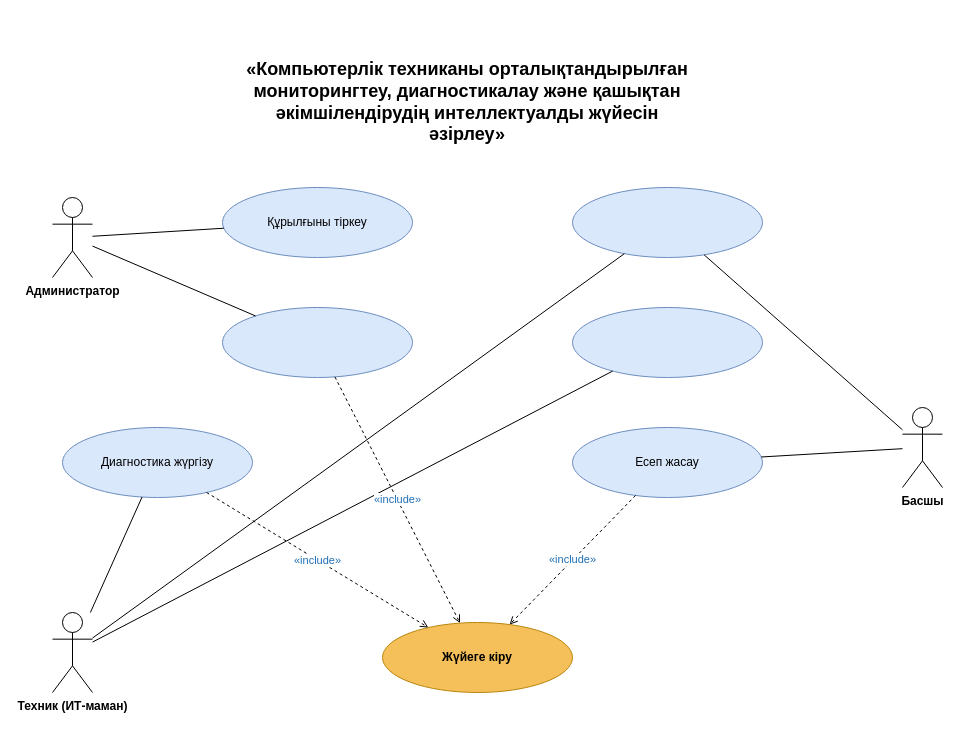
This 960x730 diagram has some shape labels left out. Here are the shapes that lost their labels. From the top down, the centre of each, then its label:
(x=667, y=222): Көрсеткіштерді көру
(x=317, y=342): Қашықтан басқару (қайта қосу, ПО орнату)
(x=667, y=342): Ескертулерді қарау
